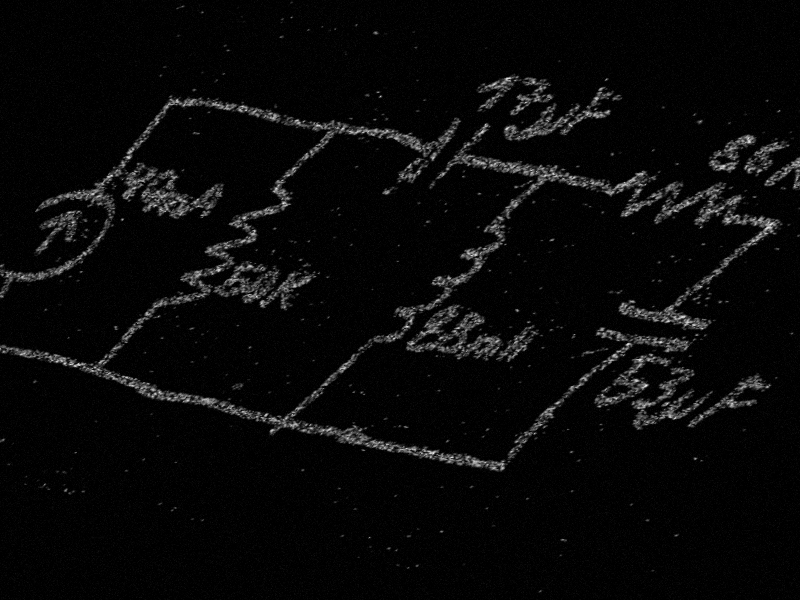0: (131, 165, 185, 209), (234, 266, 288, 307)
1: (449, 63, 527, 122)
3: (624, 360, 700, 418)
4: (105, 158, 165, 205)
5: (583, 348, 676, 418), (208, 256, 270, 303)
6: (732, 132, 798, 181)
7: (487, 70, 568, 126)
8: (396, 298, 476, 361), (694, 127, 767, 180), (426, 307, 494, 361)
A: (173, 176, 238, 227)
F: (685, 366, 783, 438), (552, 83, 633, 146)
H: (489, 322, 547, 369)
k: (253, 266, 320, 316), (759, 132, 800, 199)
m: (453, 331, 511, 365), (141, 187, 195, 221)
u: (509, 97, 582, 152), (645, 383, 716, 433)
